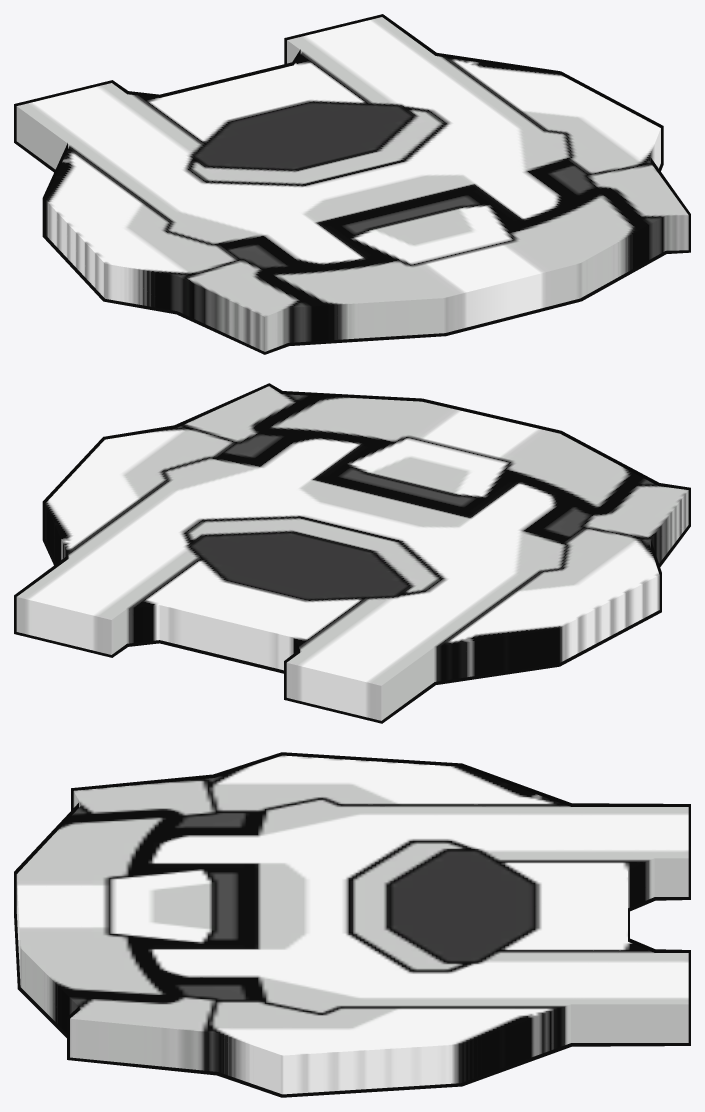
Rendered from Item_Apparel_ArmorCataphract_Things_Pawn_Humanlike_Apparel_CataphractArmor_CataphractArmor_Fat.glb.
3 views of the same model, one above another, from view 1: azimuth 30°, elevation 25°; view 2: azimuth 150°, elevation 25°; view 3: azimuth 270°, elevation 25° (orthographic). The views are drawn at different scales.
Visible parts, largest first — view 1: Body, Outline; view 2: Body, Outline; view 3: Body, Outline.
Part boxes in pixels (box(x1,y1,x2,y2)): Body: box(16, 17, 688, 351); Outline: box(14, 14, 690, 354); Body: box(16, 386, 688, 720); Outline: box(14, 383, 690, 723); Body: box(16, 755, 688, 1094); Outline: box(14, 752, 690, 1097).
Bounding box in the file's own units: 1.47 × 0.1008 × 1.39.
2 materials, 1 textured.
